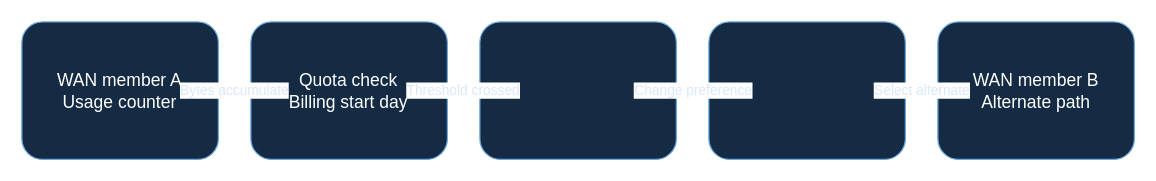
The diagram is 1156 pixels wide and 181 high, and some of its shapes have lost their labels. The centre of each missing label's shape, as x and y in pixels:
Overage attributes Cost / weight / ratio: (577,90)
SD-WAN service SLA + selection: (806,90)
